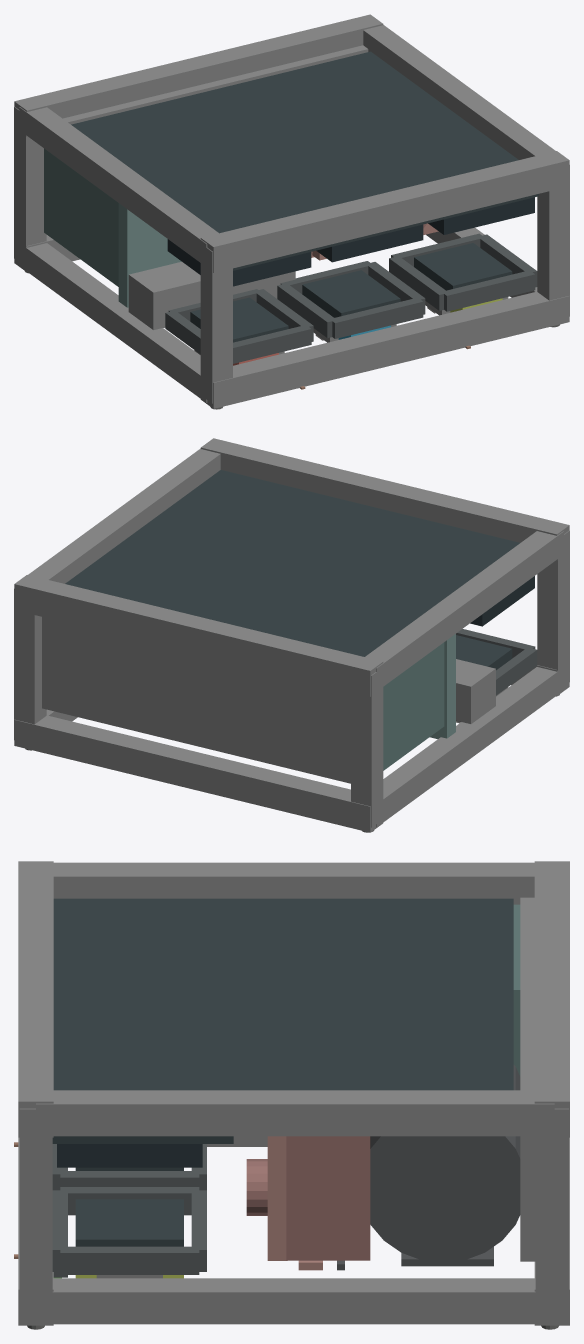
The model's file is Gerador_UniDoom_3_fusiveis.glb.
The picture shows the model from 3 angles, top to bottom: view 1: azimuth 30°, elevation 25°; view 2: azimuth 150°, elevation 25°; view 3: azimuth 270°, elevation 25°; orthographic projection. The views are drawn at different scales.
Visible parts, largest first — view 1: back_wall, top_long_beam_back, top_long_beam_front, bottom_long_beam_back, steel_upright_left_back, steel_upright_left_front, engine_lower_base, steel_upright_right_back, control_console_outer, top_depth_beam_left, top_depth_beam_right, bottom_depth_beam_left (+21 smaller); view 2: back_wall, base_floor, bottom_long_beam_back, bottom_long_beam_front, top_long_beam_back, steel_upright_left_back, steel_upright_left_front, steel_upright_right_back, engine_lower_base, bottom_depth_beam_left, top_depth_beam_left, bottom_depth_beam_right (+6 smaller); view 3: back_wall, steel_upright_right_back, steel_upright_right_front, steel_upright_left_back, motor_rotor, tank_bottom, top_long_beam_back, bottom_long_beam_back, top_depth_beam_right, bottom_depth_beam_right, socket_3_inner_rear, base_floor (+11 smaller).
Part boxes in pixels (<box>): back_wall: <box>71,51,518,233</box>; top_long_beam_back: <box>200,151,569,272</box>; top_long_beam_front: <box>200,291,569,408</box>; bottom_long_beam_back: <box>14,14,383,136</box>; steel_upright_left_back: <box>19,107,218,266</box>; steel_upright_left_front: <box>19,243,207,402</box>; engine_lower_base: <box>44,148,118,286</box>; steel_upright_right_back: <box>363,25,555,159</box>; control_console_outer: <box>128,261,295,330</box>; top_depth_beam_left: <box>200,247,232,403</box>; top_depth_beam_right: <box>537,165,569,316</box>; bottom_depth_beam_left: <box>14,106,46,261</box>; back_wall: <box>65,470,519,656</box>; base_floor: <box>42,617,350,783</box>; bottom_long_beam_back: <box>14,575,383,696</box>; bottom_long_beam_front: <box>14,715,382,832</box>; top_long_beam_back: <box>200,438,569,560</box>; steel_upright_left_back: <box>365,531,563,686</box>; steel_upright_left_front: <box>376,667,563,827</box>; steel_upright_right_back: <box>28,448,220,583</box>; engine_lower_base: <box>383,642,444,770</box>; bottom_depth_beam_left: <box>351,667,383,827</box>; top_depth_beam_left: <box>537,530,569,690</box>; bottom_depth_beam_right: <box>14,589,46,739</box>; back_wall: <box>53,898,513,1090</box>; steel_upright_right_back: <box>36,1090,554,1136</box>; steel_upright_right_front: <box>36,1278,554,1324</box>; steel_upright_left_back: <box>53,862,534,904</box>; motor_rotor: <box>370,1065,520,1262</box>; tank_bottom: <box>286,1136,370,1260</box>; top_long_beam_back: <box>18,861,53,1137</box>; bottom_long_beam_back: <box>534,861,569,1137</box>; top_depth_beam_right: <box>19,1108,52,1319</box>; bottom_depth_beam_right: <box>535,1108,568,1319</box>; socket_3_inner_rear: <box>75,1199,183,1246</box>; base_floor: <box>520,897,535,1261</box>.
Size of the model in its own units: 2.59 by 1.16 by 2.52.
